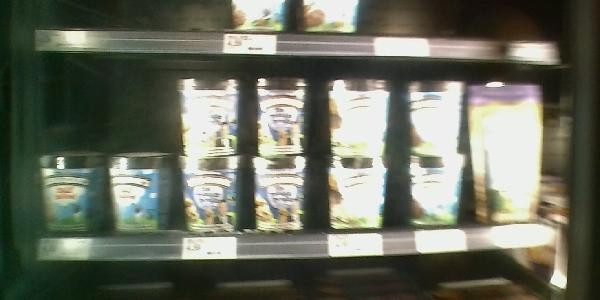icecream1: (468, 77, 544, 223), (171, 72, 246, 153), (31, 148, 103, 231), (174, 151, 246, 231), (323, 76, 392, 157), (108, 149, 176, 230), (321, 158, 390, 233), (252, 155, 318, 231), (255, 73, 310, 156), (405, 79, 463, 157), (406, 157, 468, 227)
